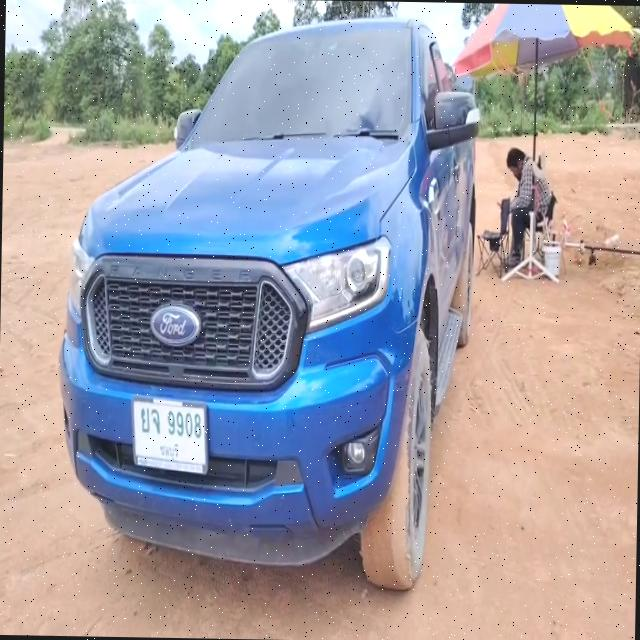Digit: (167, 411, 201, 438)
Licenseplate: (132, 398, 206, 472)
Provincename: (158, 441, 181, 460)
Thaichar: (140, 407, 160, 435)
